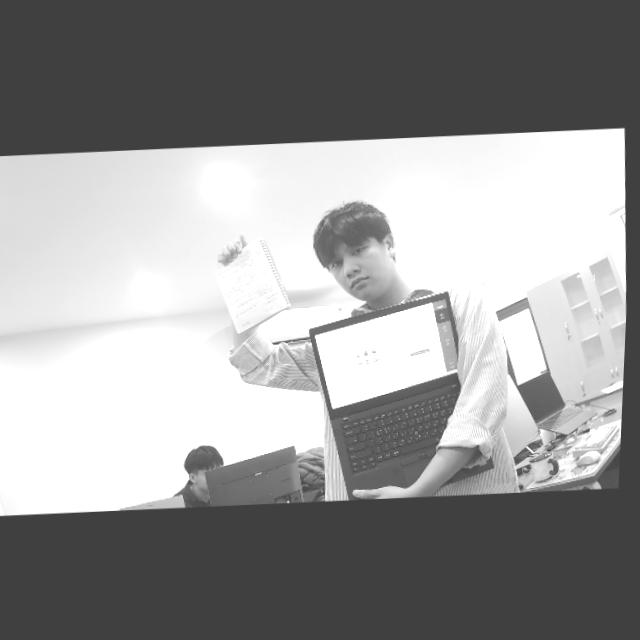document: (212, 237, 291, 335)
face: (326, 223, 393, 298)
